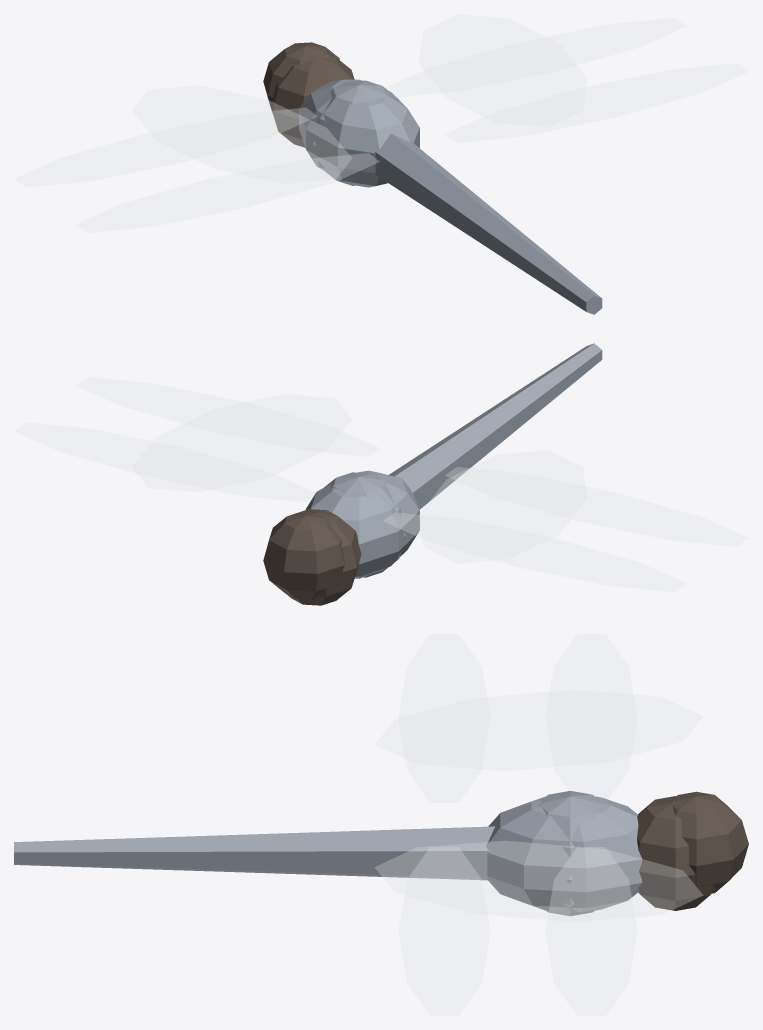
File: fauna_fly.glb
3 renders of one model, top to bottom at view 1: azimuth 30°, elevation 25°; view 2: azimuth 150°, elevation 25°; view 3: azimuth 270°, elevation 25°, orthographic. The views are drawn at different scales.
Visible parts, largest first — view 1: hover_WingR, hover_WingL, darner_Abdomen, darner_WingR2, darner_WingL2, darner_WingL, darner_WingR, hover_Body, darner_Head, hover_Head, darner_Body; view 2: hover_WingR, hover_WingL, darner_WingR2, darner_WingL, darner_WingR, darner_WingL2, darner_Abdomen, hover_Body, hover_Head, darner_Head, darner_Body; view 3: hover_WingL, hover_WingR, darner_Abdomen, hover_Body, darner_WingL2, darner_WingR2, darner_WingR, darner_WingL, darner_Head, hover_Head, darner_Body.
Part boxes in pixels (left/top/right/bottom): hover_WingR: left=419, top=14, right=586, bottom=127; hover_WingL: left=132, top=85, right=351, bottom=183; darner_Abdomen: left=375, top=133, right=602, bottom=314; darner_WingR2: left=445, top=63, right=747, bottom=142; darner_WingL2: left=76, top=153, right=379, bottom=232; darner_WingL: left=15, top=108, right=317, bottom=187; darner_WingR: left=386, top=18, right=685, bottom=96; hover_Body: left=299, top=79, right=419, bottom=187; darner_Head: left=270, top=56, right=354, bottom=147; hover_Head: left=263, top=42, right=339, bottom=113; darner_Body: left=313, top=80, right=399, bottom=185; hover_WingR: left=132, top=394, right=351, bottom=491; hover_WingL: left=419, top=450, right=586, bottom=563; darner_WingR2: left=76, top=377, right=379, bottom=456; darner_WingL: left=384, top=512, right=685, bottom=591; darner_WingR: left=15, top=422, right=315, bottom=501; darner_WingL2: left=445, top=467, right=748, bottom=546; darner_Abdomen: left=389, top=343, right=602, bottom=509; hover_Body: left=305, top=470, right=419, bottom=578; hover_Head: left=263, top=512, right=345, bottom=599; darner_Head: left=286, top=509, right=361, bottom=605; darner_Body: left=324, top=472, right=405, bottom=577; hover_WingL: left=375, top=690, right=702, bottom=770; hover_WingR: left=375, top=841, right=702, bottom=921; darner_Abdomen: left=14, top=826, right=494, bottom=880; hover_Body: left=486, top=796, right=642, bottom=912; darner_WingL2: left=398, top=634, right=489, bottom=802; darner_WingR2: left=398, top=847, right=490, bottom=1015; darner_WingR: left=545, top=847, right=637, bottom=1015; darner_WingL: left=546, top=634, right=636, bottom=798; darner_Head: left=637, top=796, right=714, bottom=910; hover_Head: left=672, top=791, right=748, bottom=893; darner_Body: left=538, top=791, right=601, bottom=916.
Size of the model in its own units: 0.8604 by 0.12 by 0.7.
